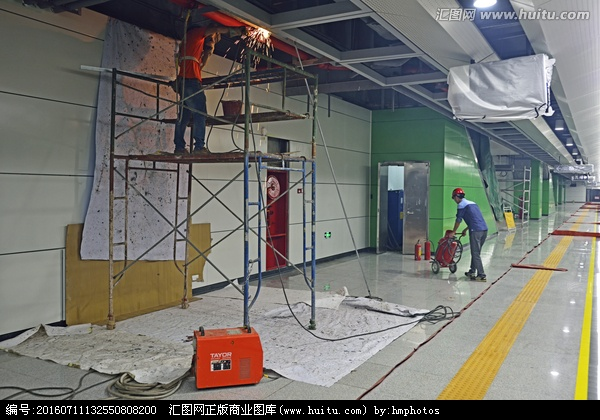red: (451, 187, 465, 203)
